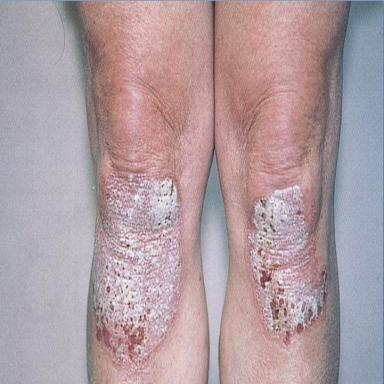Psoriasis: (92, 173, 181, 370), (245, 185, 328, 350)
